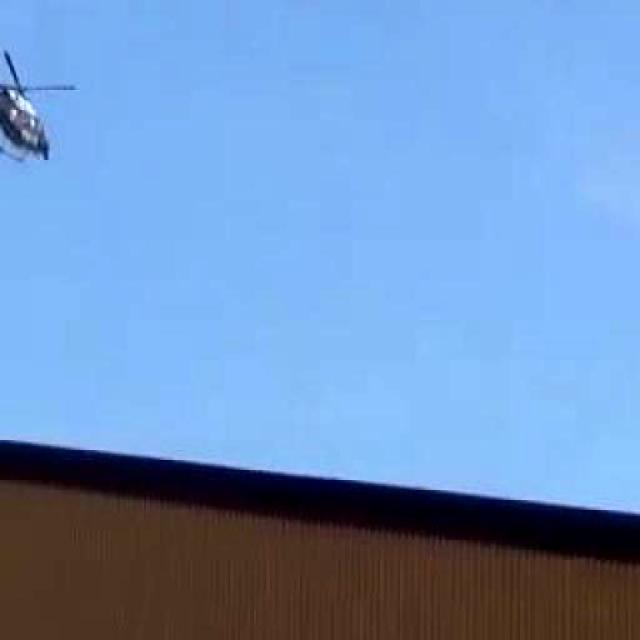drone: (0, 14, 92, 210)
